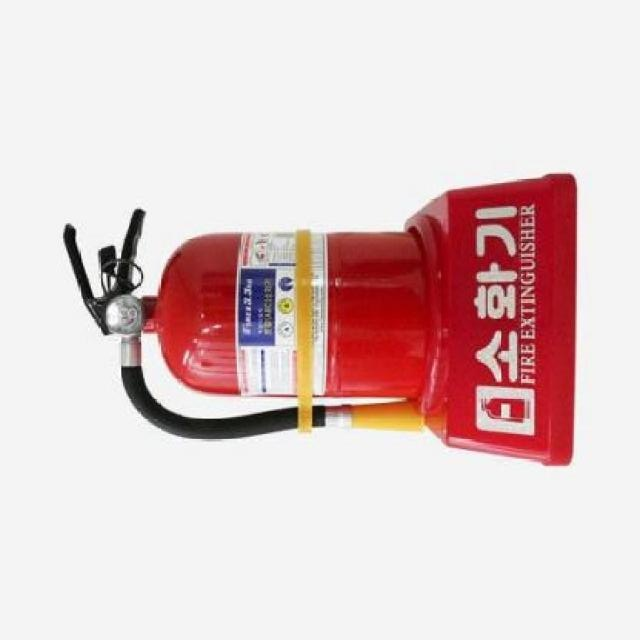fire extinguisher: (62, 207, 429, 441)
